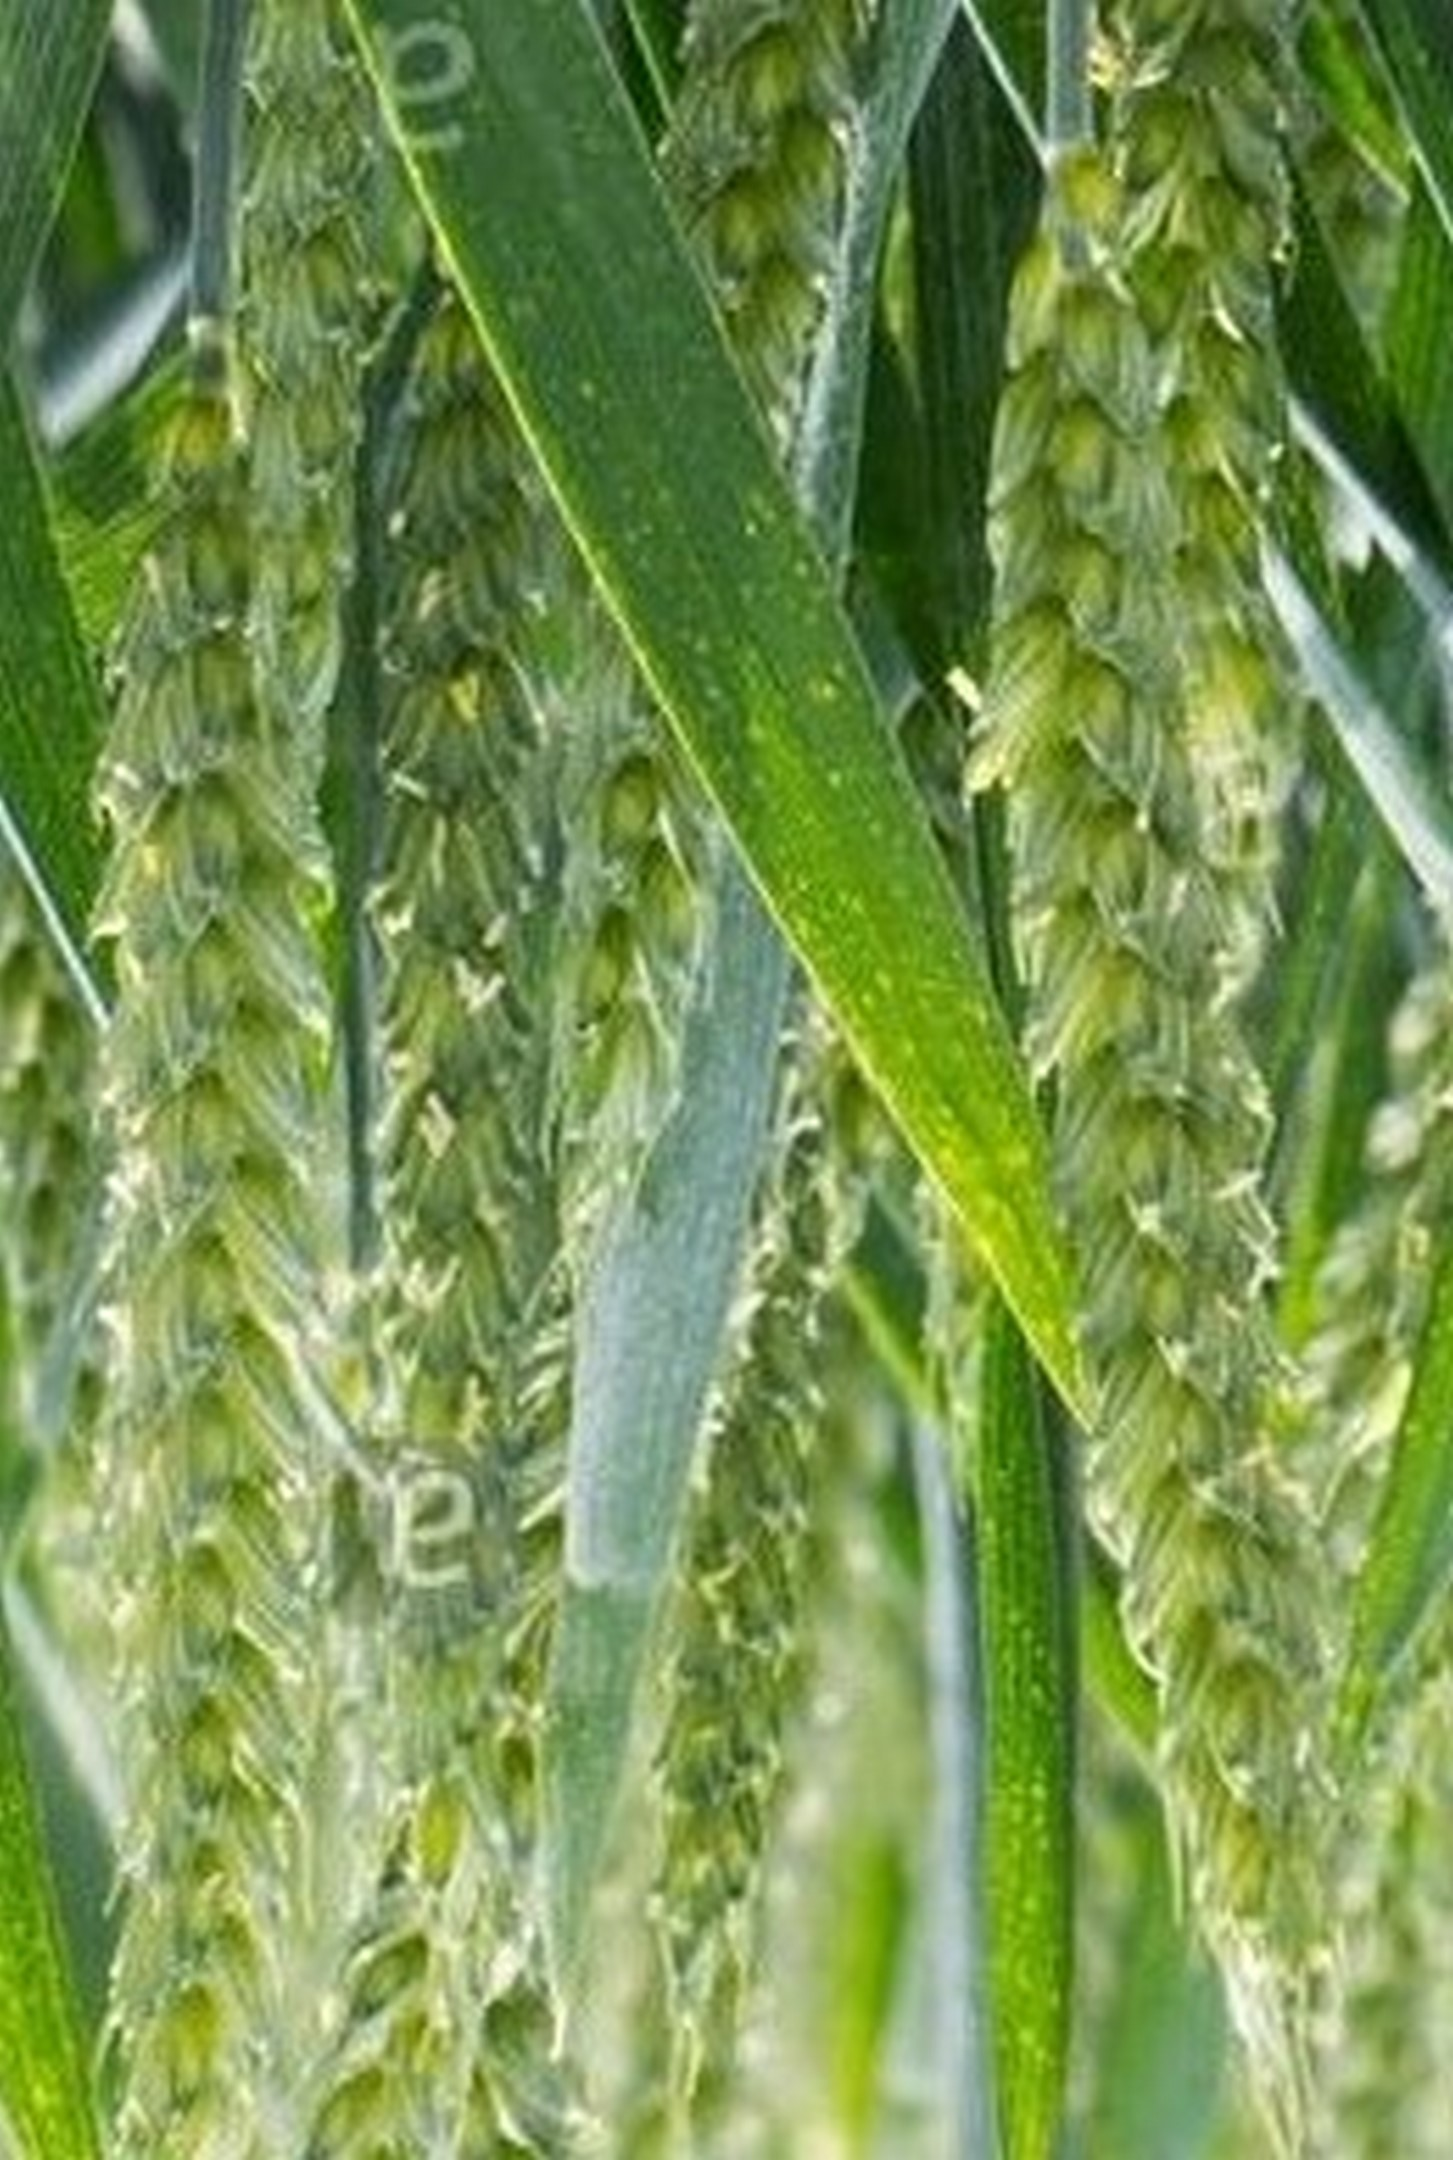Healthy Wheat: (54, 486, 378, 2152)
